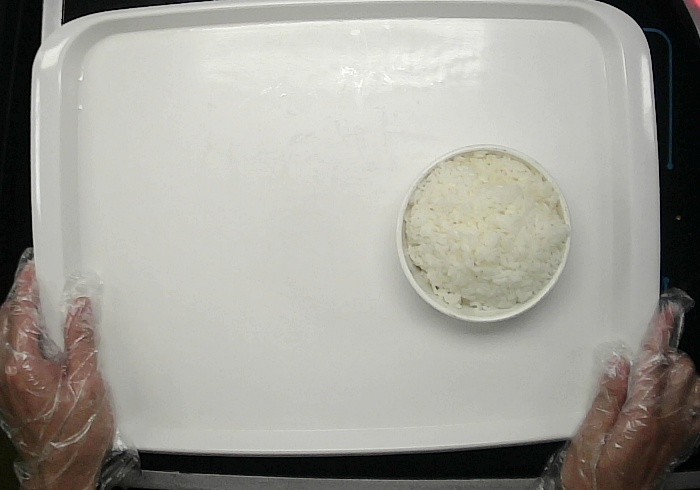HZYJPL-Fan_Wan: (394, 144, 572, 323)
